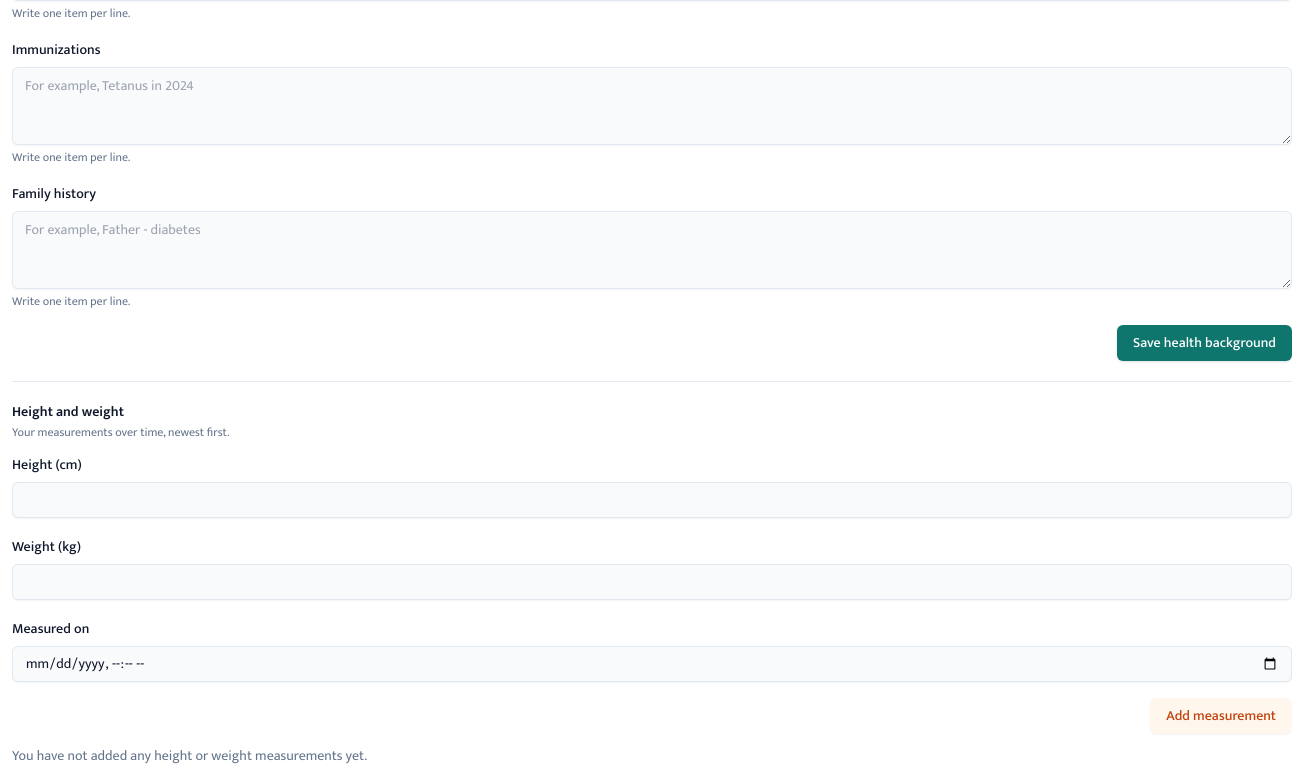
Health background zone surface (#549) › refuses a measurement with neither height nor weight, naming the fields
(page scrolled)
Type "2026-09-26T10:00" into the field with test id "ps-hb-metric-recorded-at".
click(652, 664); type("2026-09-26T10:00")  # box [12,646,1292,682]
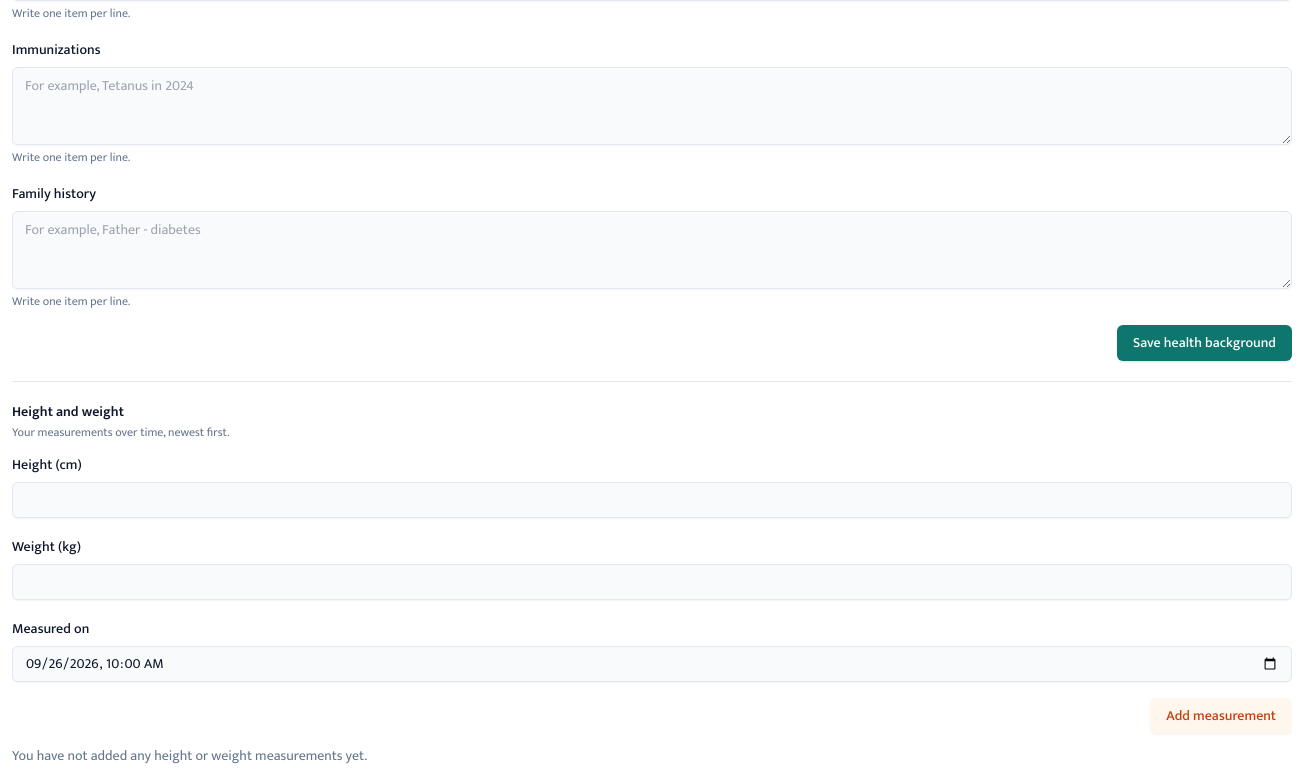
Click the button with test id "ps-hb-metric-add".
click(1221, 716)  # box [1150,698,1292,734]
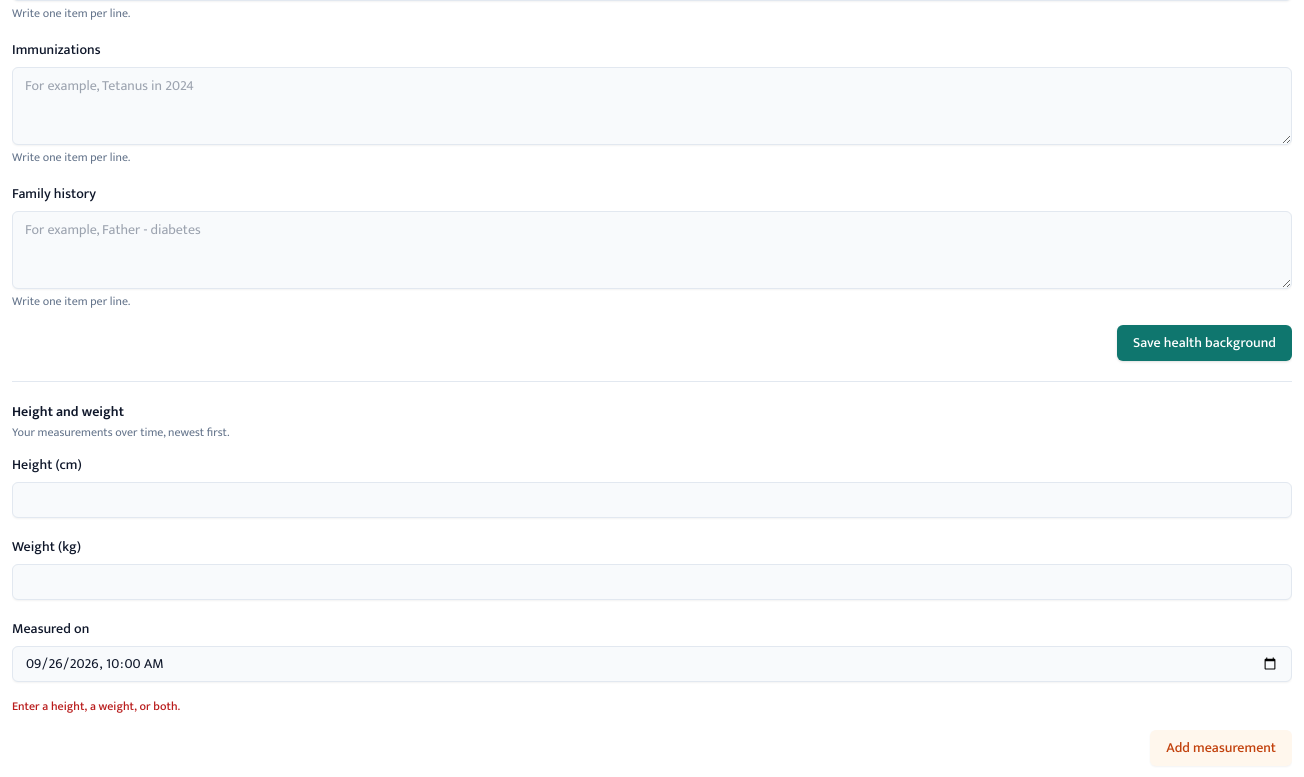
Expected: the message with test id "ps-hb-metric-error-values" reads "Enter a height, a weight, or both.", [12,696,180,716]
